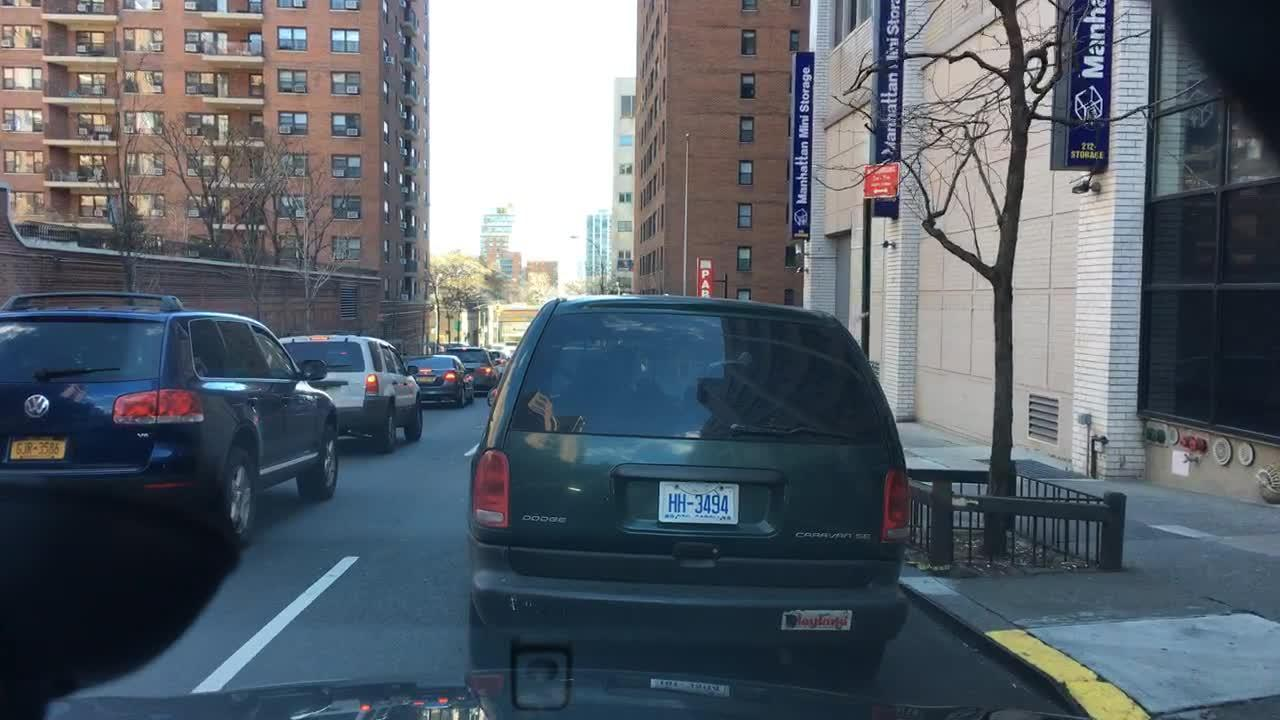Volkswagen: (20, 388, 56, 422)
dodge: (517, 512, 575, 531)
